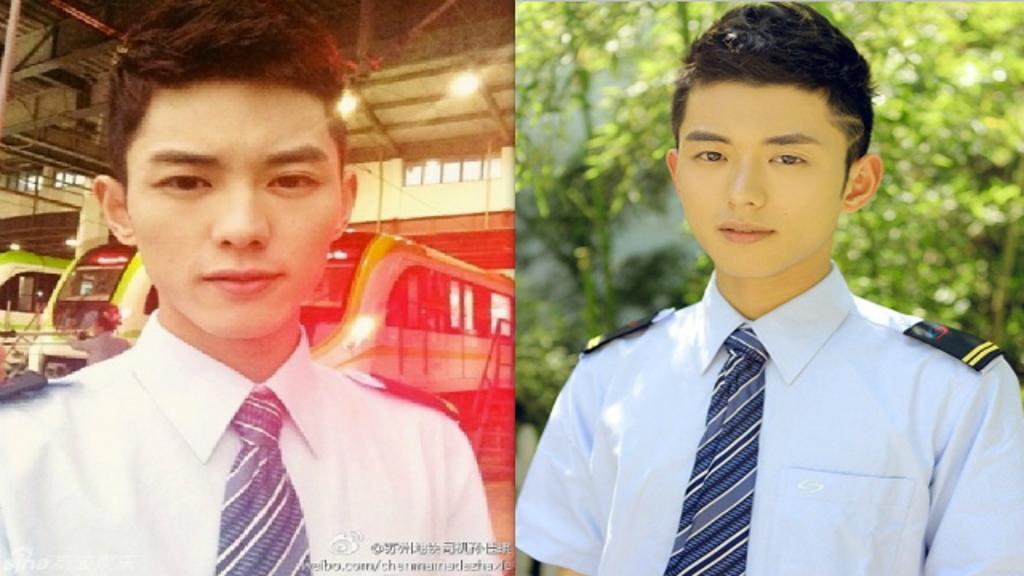face: (142, 82, 334, 326), (684, 82, 828, 270)
